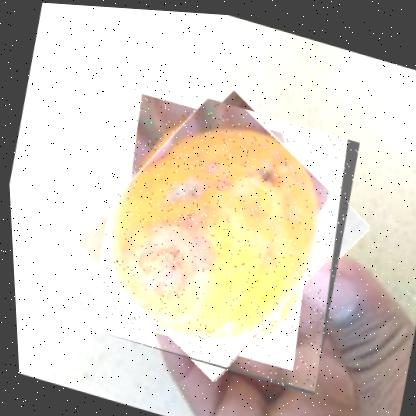orange_rotten: (74, 70, 370, 394)
